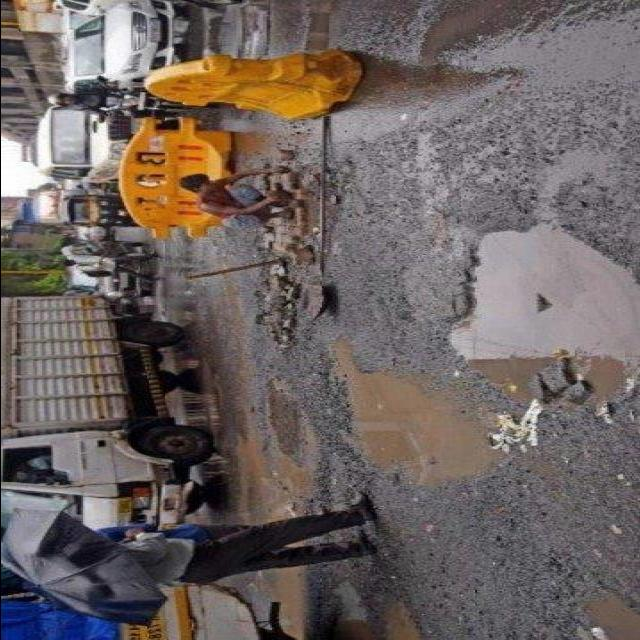lubang: (436, 217, 638, 417), (318, 338, 520, 485), (387, 0, 576, 70), (504, 144, 640, 224), (227, 408, 296, 520), (310, 577, 432, 640), (189, 351, 235, 447), (264, 443, 326, 512), (237, 276, 295, 345), (570, 578, 630, 639), (283, 0, 342, 56), (270, 570, 310, 638), (204, 12, 260, 57)
